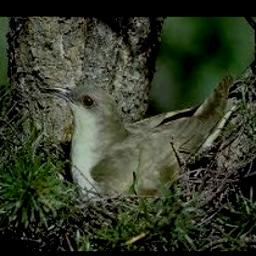Cuckoo: (39, 73, 232, 201)
